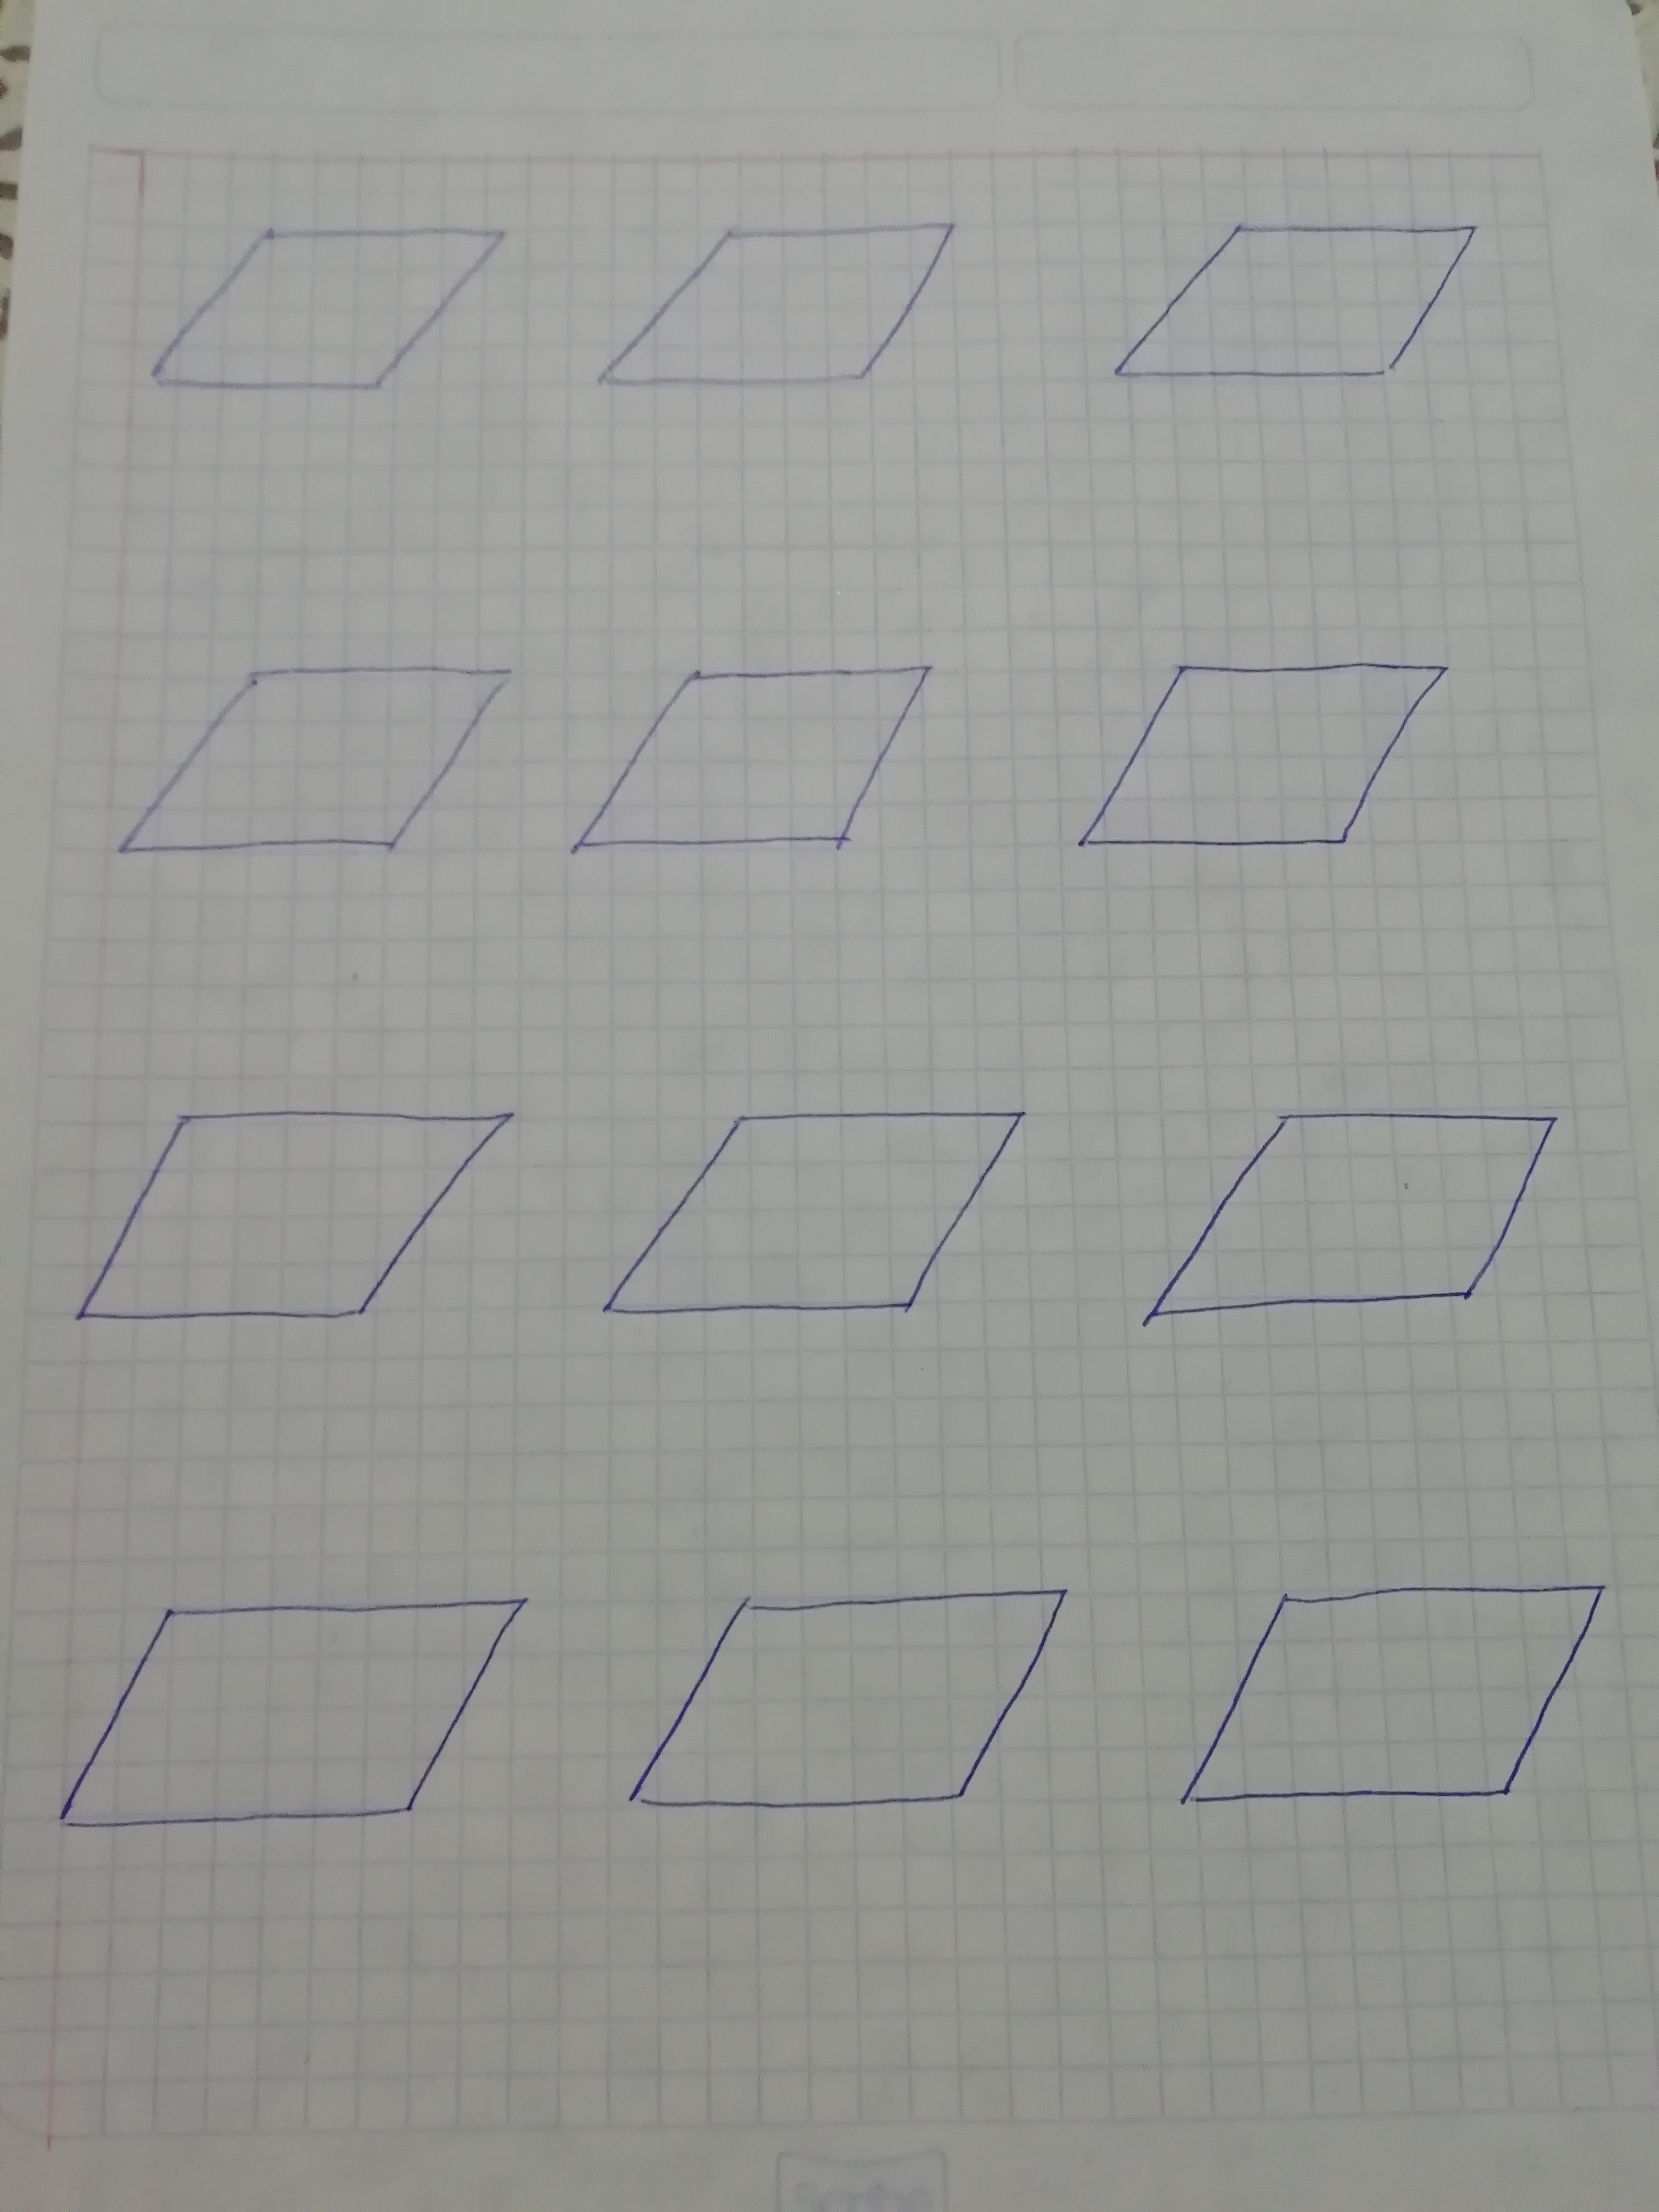scan: (23, 1564, 551, 1872), (26, 1078, 533, 1369), (605, 1552, 1103, 1846), (1122, 1075, 1603, 1369), (1152, 1564, 1659, 1829), (580, 1089, 1051, 1364), (101, 167, 537, 460), (1051, 620, 1486, 907), (98, 627, 533, 904), (551, 641, 995, 897), (1091, 181, 1506, 449), (575, 188, 986, 458)
